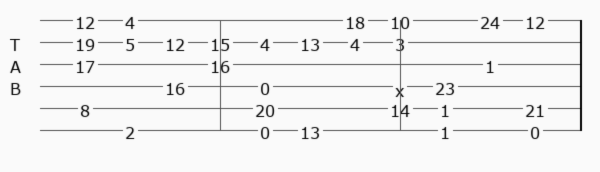0: (260, 122, 274, 138), (260, 78, 274, 94), (530, 122, 544, 138)
1: (440, 122, 454, 138), (440, 100, 454, 116), (485, 56, 499, 72)
10: (390, 12, 414, 28)
12: (75, 12, 99, 28), (165, 34, 189, 50), (525, 12, 549, 28)
13: (300, 34, 324, 50), (300, 122, 324, 138)
14: (390, 100, 414, 116)
15: (210, 34, 234, 50)
16: (165, 78, 189, 94), (210, 56, 234, 72)
17: (75, 56, 99, 72)
18: (345, 12, 369, 28)
19: (75, 34, 99, 50)
2: (125, 122, 139, 138)
20: (255, 100, 279, 116)
21: (525, 100, 549, 116)
23: (435, 78, 459, 94)
24: (480, 12, 504, 28)
3: (395, 34, 409, 50)
4: (125, 12, 139, 28), (260, 34, 274, 50), (350, 34, 364, 50)
5: (125, 34, 139, 50)
8: (80, 100, 94, 116)
x: (395, 80, 408, 93)
